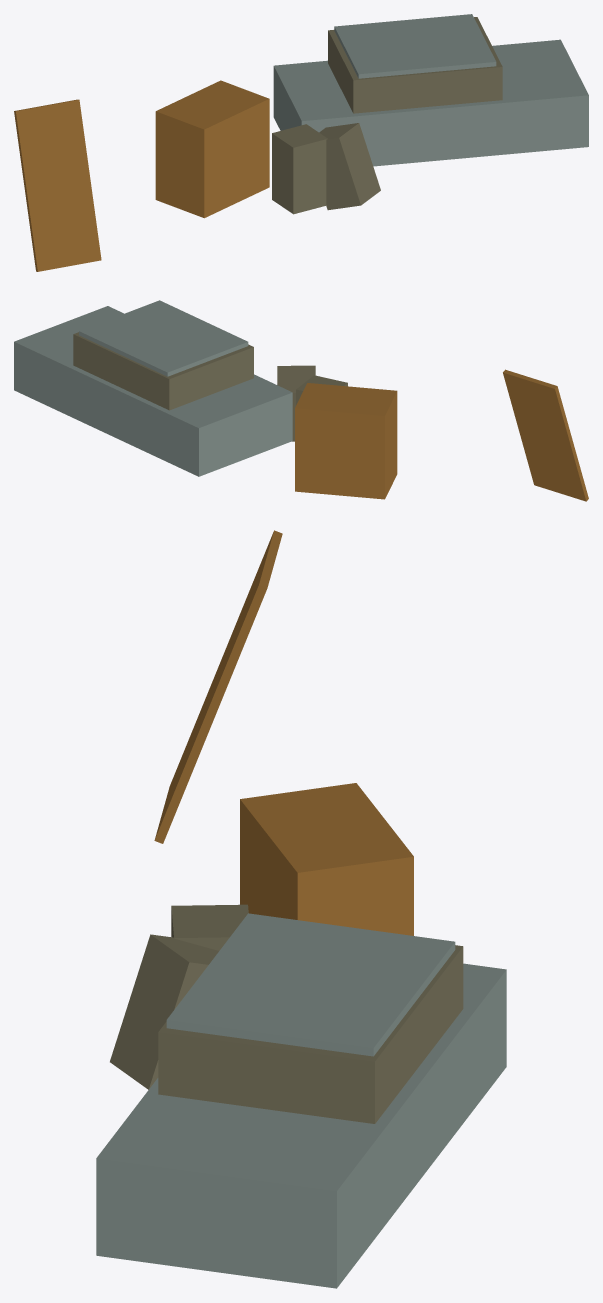
Rendered from SM_BarricadaCivil_v4_Mixta_e1_Danado_LOD1.fbx.
3 views of the same model, one above another, from view 1: azimuth 30°, elevation 25°; view 2: azimuth 150°, elevation 25°; view 3: azimuth 270°, elevation 25° (orthographic). The views are drawn at different scales.
Parts seen in each view (by area): view 1: SM_barricada_civil_v17_LOD1; view 2: SM_barricada_civil_v17_LOD1; view 3: SM_barricada_civil_v17_LOD1.
Part boxes in pixels (left/top/right/bottom): SM_barricada_civil_v17_LOD1: left=14, top=14, right=588, bottom=271; SM_barricada_civil_v17_LOD1: left=14, top=300, right=588, bottom=501; SM_barricada_civil_v17_LOD1: left=96, top=530, right=506, bottom=1288.
Bounding box in the file's own units: 8.03 × 2.01 × 2.68.
